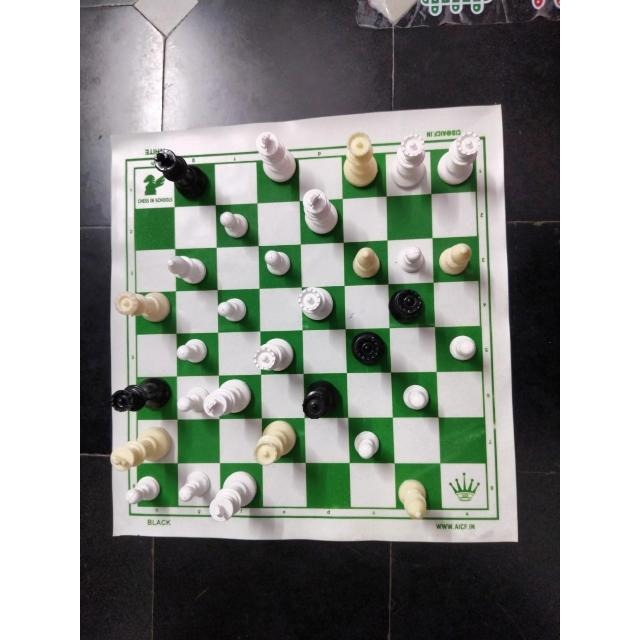black-king: (153, 148, 209, 204)
black-queen: (109, 377, 172, 417), (299, 380, 341, 420), (347, 329, 388, 368), (388, 290, 428, 326)
white-bishop: (395, 474, 433, 524), (433, 238, 474, 277), (347, 244, 386, 282), (163, 252, 207, 285)
white-king: (109, 423, 172, 470), (252, 129, 302, 187), (210, 468, 258, 524), (298, 188, 342, 240), (204, 377, 253, 416)
white-pawn: (350, 425, 387, 465), (258, 246, 294, 280), (443, 331, 479, 365), (125, 473, 161, 507), (214, 292, 252, 324), (398, 380, 432, 415), (174, 335, 210, 366), (392, 242, 425, 274), (174, 472, 209, 502), (216, 207, 249, 238), (177, 388, 205, 419)
white-queen: (337, 129, 379, 189), (109, 286, 172, 325), (434, 132, 481, 184), (387, 132, 427, 191), (252, 420, 298, 465), (251, 337, 300, 373), (293, 285, 335, 325)
